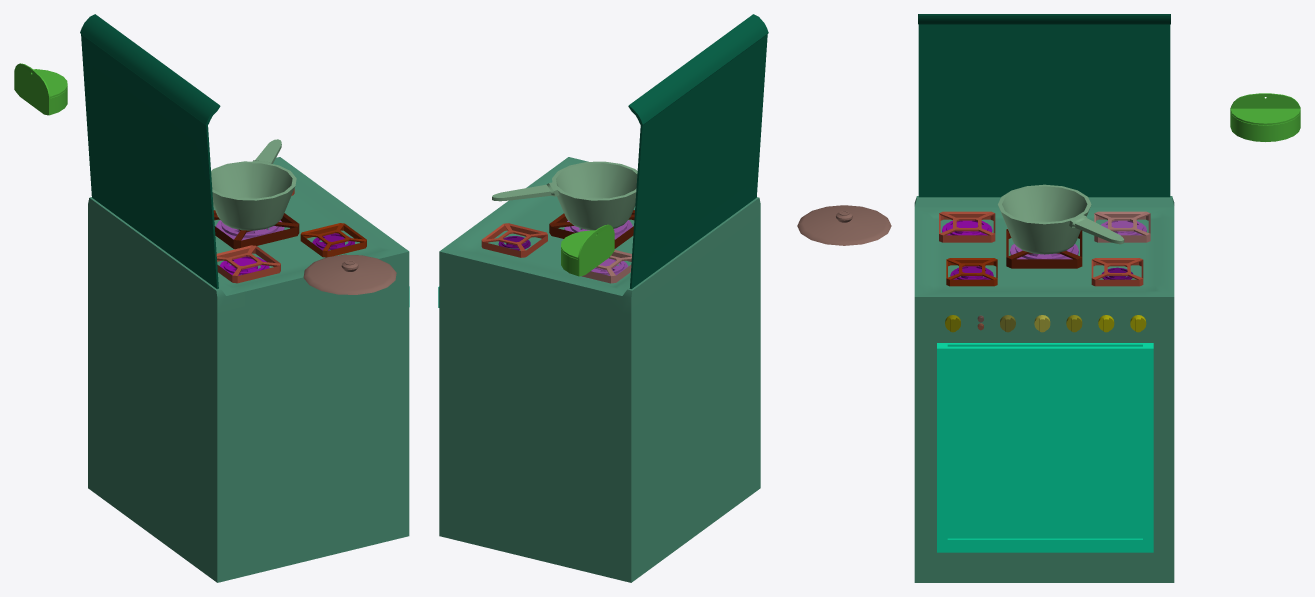
The model's file is PROP_Fogao.fbx.
3 renders of one model, left to right at view 1: azimuth 30°, elevation 25°; view 2: azimuth 150°, elevation 25°; view 3: azimuth 270°, elevation 25°, orthographic.
Parts seen in each view (by area): view 1: Estrutura, Tampa, panela2, tampaPanela, Saleiro, pCube92, pCube89, pCube93; view 2: Estrutura, Tampa, panela2, Saleiro, pCube90, pCube91, pCube93; view 3: Tampa, PortaForno, Estrutura, panela2, Saleiro, tampaPanela, pCube92, pCube93, pCube90, pCube89, pCube91.
Part boxes in pixels (bbox=[...]): Estrutura: bbox=[88, 157, 409, 582]; Tampa: bbox=[80, 14, 220, 288]; panela2: bbox=[211, 139, 296, 230]; tampaPanela: bbox=[303, 254, 396, 294]; Saleiro: bbox=[14, 63, 67, 115]; pCube92: bbox=[216, 245, 280, 283]; pCube89: bbox=[300, 223, 366, 257]; pCube93: bbox=[213, 210, 299, 249]; Estrutura: bbox=[439, 157, 760, 582]; Tampa: bbox=[628, 14, 768, 288]; panela2: bbox=[492, 161, 637, 230]; Saleiro: bbox=[561, 224, 614, 276]; pCube90: bbox=[481, 223, 547, 257]; pCube91: bbox=[569, 250, 631, 283]; pCube93: bbox=[549, 210, 634, 248]; Tampa: bbox=[918, 14, 1170, 197]; PortaForno: bbox=[937, 343, 1153, 552]; Estrutura: bbox=[914, 196, 1174, 582]; panela2: bbox=[998, 184, 1124, 254]; Saleiro: bbox=[1230, 93, 1300, 141]; tampaPanela: bbox=[797, 205, 891, 245]; pCube92: bbox=[939, 211, 995, 242]; pCube93: bbox=[1006, 229, 1082, 268]; pCube90: bbox=[1091, 258, 1143, 286]; pCube89: bbox=[946, 258, 997, 286]; pCube91: bbox=[1094, 211, 1150, 242].
Bounding box in the file's own units: 7.08 × 14.96 × 14.32.
